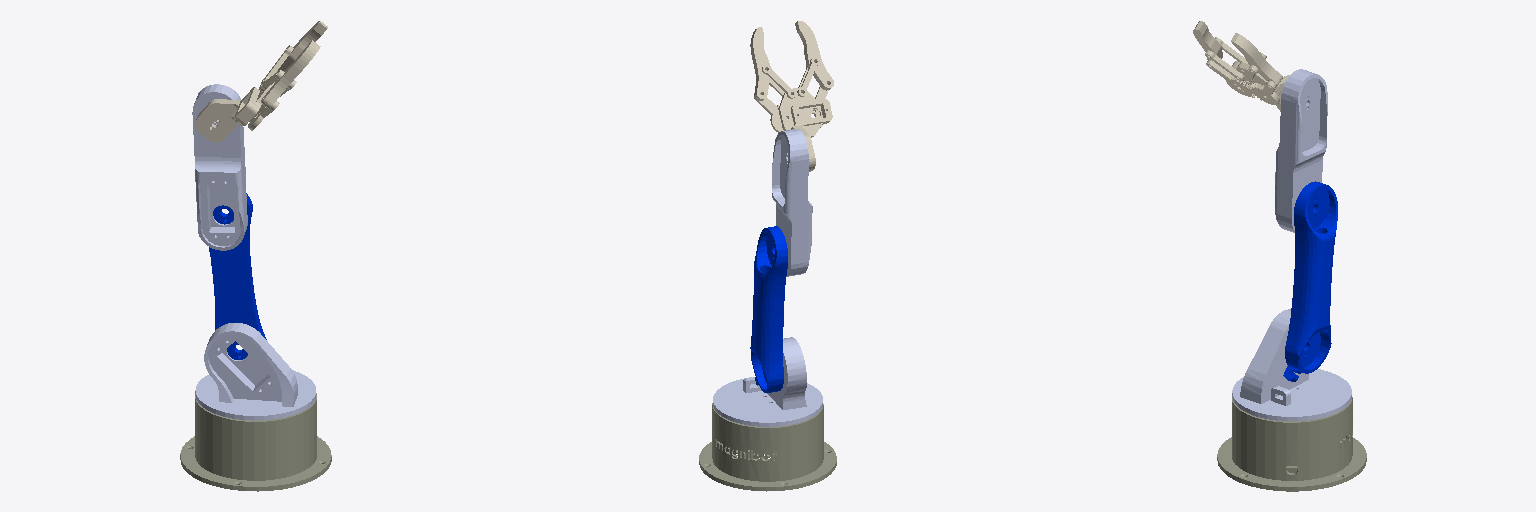
URDF robot description (ANASA7):
<?xml version="1.0" encoding="utf-8"?>
<!-- This URDF was automatically created by SolidWorks to URDF Exporter! Originally created by [author] ([email redacted]) 
     Commit Version: 1.6.0-4-g7f85cfe  Build Version: 1.6.7995.38578
     For more information, please see http://wiki.ros.org/sw_urdf_exporter -->
<robot
  name="ANASA7">
  <link
    name="base_link">
    <inertial>
      <origin
        xyz="0.0409039885900863 -0.0933531694808405 0.0583530922483095"
        rpy="0 0 0" />
      <mass
        value="1.8049236132839" />
      <inertia
        ixx="0.00239355159848127"
        ixy="-5.28083887336829E-07"
        ixz="7.42025539306637E-05"
        iyy="0.00260834095667999"
        iyz="4.54611441209354E-06"
        izz="0.0039075436804005" />
    </inertial>
    <visual>
      <origin
        xyz="0 0 0"
        rpy="0 0 0" />
      <geometry>
        <mesh
          filename="package://ANASA7/meshes/base_link.STL" />
      </geometry>
      <material
        name="">
        <color
          rgba="0.627450980392157 0.63921568627451 0.568627450980392 1" />
      </material>
    </visual>
    <collision>
      <origin
        xyz="0 0 0"
        rpy="0 0 0" />
      <geometry>
        <mesh
          filename="package://ANASA7/meshes/base_link.STL" />
      </geometry>
    </collision>
  </link>
  <link
    name="Link_1">
    <inertial>
      <origin
        xyz="-0.00643460210920304 0.0172893971363355 -0.00137197240631336"
        rpy="0 0 0" />
      <mass
        value="0.0680382266926046" />
      <inertia
        ixx="5.81331813538308E-05"
        ixy="5.17764381970499E-06"
        ixz="-6.41736919561091E-07"
        iyy="5.467636163819E-05"
        iyz="6.24274411898596E-06"
        izz="4.5017720221946E-05" />
    </inertial>
    <visual>
      <origin
        xyz="0 0 0"
        rpy="0 0 0" />
      <geometry>
        <mesh
          filename="package://ANASA7/meshes/Link_1.STL" />
      </geometry>
      <material
        name="">
        <color
          rgba="0.792156862745098 0.819607843137255 0.933333333333333 1" />
      </material>
    </visual>
    <collision>
      <origin
        xyz="0 0 0"
        rpy="0 0 0" />
      <geometry>
        <mesh
          filename="package://ANASA7/meshes/Link_1.STL" />
      </geometry>
    </collision>
  </link>
  <joint
    name="q1"
    type="continuous">
    <origin
      xyz="0.0407792536350643 -0.0928795656917679 0.0931075741078677"
      rpy="1.5707963267949 0 0.886881487119416" />
    <parent
      link="base_link" />
    <child
      link="Link_1" />
    <axis
      xyz="0 1 0" />
  </joint>
  <link
    name="Link_2">
    <inertial>
      <origin
        xyz="-0.000129921421243601 0.0585889617137443 0.0059691150146594"
        rpy="0 0 0" />
      <mass
        value="0.0643957059523334" />
      <inertia
        ixx="0.000107041388075716"
        ixy="-9.12409869583641E-10"
        ixz="2.36256662975896E-10"
        iyy="9.11010442357688E-06"
        iyz="2.40343656089182E-07"
        izz="0.000111847761425141" />
    </inertial>
    <visual>
      <origin
        xyz="0 0 0"
        rpy="0 0 0" />
      <geometry>
        <mesh
          filename="package://ANASA7/meshes/Link_2.STL" />
      </geometry>
      <material
        name="">
        <color
          rgba="0 0.254901960784314 0.92156862745098 1" />
      </material>
    </visual>
    <collision>
      <origin
        xyz="0 0 0"
        rpy="0 0 0" />
      <geometry>
        <mesh
          filename="package://ANASA7/meshes/Link_2.STL" />
      </geometry>
    </collision>
  </link>
  <joint
    name="q2"
    type="continuous">
    <origin
      xyz="0 0.0404532568712267 -0.0137417296066946"
      rpy="-1.57079632679487 1.47629990543308 -1.57079632679487" />
    <parent
      link="Link_1" />
    <child
      link="Link_2" />
    <axis
      xyz="0 0 1" />
  </joint>
  <link
    name="Link_3">
    <inertial>
      <origin
        xyz="4.88362183498348E-07 0.0502090092246788 0.0126030370775675"
        rpy="0 0 0" />
      <mass
        value="0.0630340919810498" />
      <inertia
        ixx="8.7215788712602E-05"
        ixy="-1.5019811406081E-10"
        ixz="8.71200415750021E-12"
        iyy="1.03038432922002E-05"
        iyz="-7.58047091546378E-07"
        izz="9.44234738837451E-05" />
    </inertial>
    <visual>
      <origin
        xyz="0 0 0"
        rpy="0 0 0" />
      <geometry>
        <mesh
          filename="package://ANASA7/meshes/Link_3.STL" />
      </geometry>
      <material
        name="">
        <color
          rgba="0.792156862745098 0.819607843137255 0.933333333333333 1" />
      </material>
    </visual>
    <collision>
      <origin
        xyz="0 0 0"
        rpy="0 0 0" />
      <geometry>
        <mesh
          filename="package://ANASA7/meshes/Link_3.STL" />
      </geometry>
    </collision>
  </link>
  <joint
    name="q3"
    type="continuous">
    <origin
      xyz="0 0.12 0"
      rpy="3.14159265358979 0 -3.09177012713187" />
    <parent
      link="Link_2" />
    <child
      link="Link_3" />
    <axis
      xyz="0 0 1" />
  </joint>
  <link
    name="Link_4">
    <inertial>
      <origin
        xyz="0.0311399919225719 0.0108354271913698 0.0511717041418299"
        rpy="0 0 0" />
      <mass
        value="0.000559346607892399" />
      <inertia
        ixx="1.8191528312664E-07"
        ixy="-5.61159538522995E-09"
        ixz="-2.22056102012936E-08"
        iyy="2.05912423736136E-07"
        iyz="-2.18512722878733E-08"
        izz="5.35437863714727E-08" />
    </inertial>
    <visual>
      <origin
        xyz="0 0 0"
        rpy="0 0 0" />
      <geometry>
        <mesh
          filename="package://ANASA7/meshes/Link_4.STL" />
      </geometry>
      <material
        name="">
        <color
          rgba="0.843137254901961 0.815686274509804 0.752941176470588 1" />
      </material>
    </visual>
    <collision>
      <origin
        xyz="0 0 0"
        rpy="0 0 0" />
      <geometry>
        <mesh
          filename="package://ANASA7/meshes/Link_4.STL" />
      </geometry>
    </collision>
  </link>
  <joint
    name="q4"
    type="continuous">
    <origin
      xyz="0 0.0895 0"
      rpy="4 -1.5708 0" />
    <parent
      link="Link_3" />
    <child
      link="Link_4" />
    <axis
      xyz="1 0 0" />
  </joint>
</robot>

--- Facts derived from the render (not from the file) ---
3 views of the same robot in one strip: view 1: azimuth 30°, elevation 25°; view 2: azimuth 150°, elevation 25°; view 3: azimuth 270°, elevation 25° (orthographic).
Model ANASA7 with 5 links and 4 joints (4 continuous), rooted at base_link, posed all joints at 0.
Visible links, largest first — view 1: base_link, Link_1, Link_3, Link_4, Link_2; view 2: base_link, Link_4, Link_2, Link_1, Link_3; view 3: base_link, Link_2, Link_1, Link_3, Link_4.
Link boxes in pixels (x1,y1,x2,y2): base_link: (180,393,331,491); Link_1: (195,323,315,420); Link_3: (192,84,247,250); Link_4: (195,21,327,142); Link_2: (209,193,266,359); base_link: (699,403,836,491); Link_4: (750,21,833,171); Link_2: (750,226,787,392); Link_1: (713,337,822,426); Link_3: (772,129,812,276); base_link: (1217,397,1366,491); Link_2: (1283,181,1337,381); Link_1: (1232,309,1351,420); Link_3: (1275,69,1327,232); Link_4: (1193,21,1289,111).
Size in the robot's own frame: 0.1213 by 0.1408 by 0.3969 metres.
5 mesh visuals loaded from 5 distinct referenced files (5 binary STL).